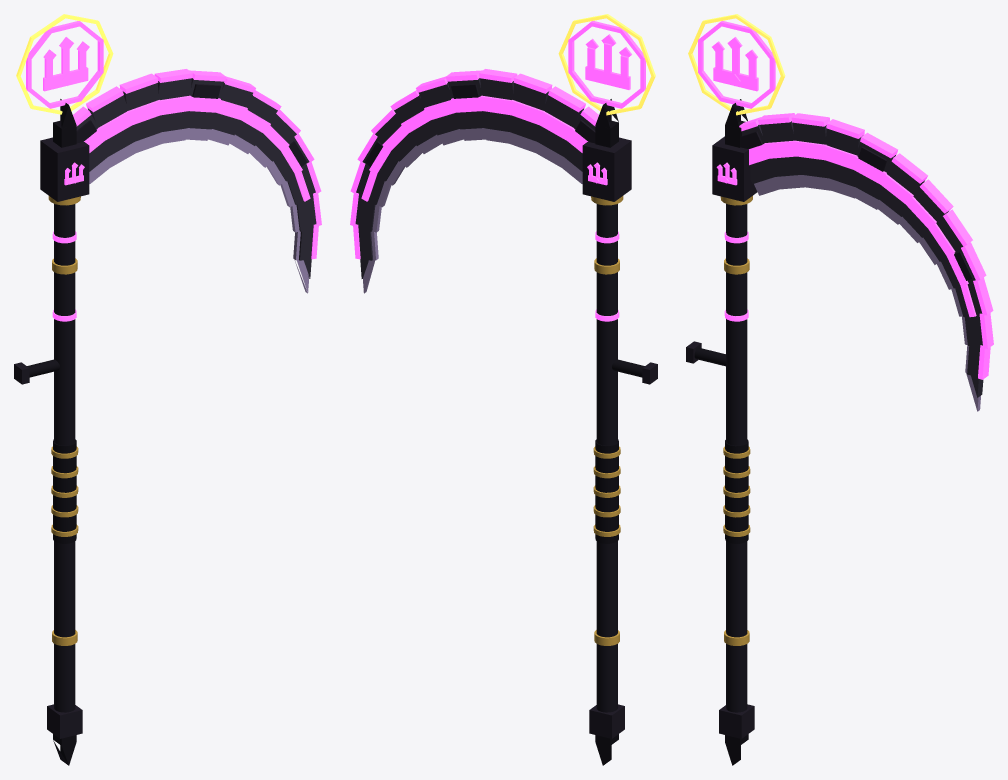
3 renders of one model, left to right at view 1: azimuth 30°, elevation 25°; view 2: azimuth 150°, elevation 25°; view 3: azimuth 330°, elevation 25°, orthographic.
Visible parts, largest first — view 1: abyssal-scythe; view 2: abyssal-scythe; view 3: abyssal-scythe.
Boxes of the visible parts, <box> form: abyssal-scythe: <box>14,14,321,765</box>; abyssal-scythe: <box>350,14,657,765</box>; abyssal-scythe: <box>686,14,993,765</box>.
Bounding box in the file's own units: 0.8475 × 2.01 × 0.1042.
